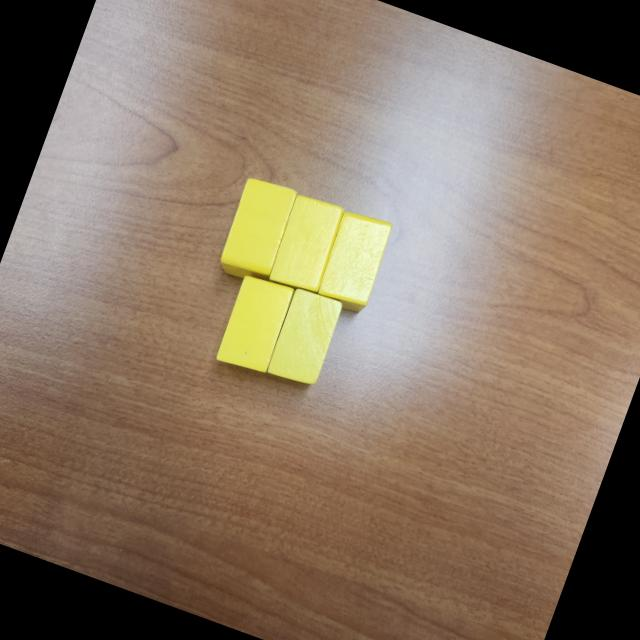yellow: (216, 175, 300, 289), (312, 207, 396, 317), (264, 190, 348, 299), (214, 270, 297, 378), (264, 284, 346, 391)
